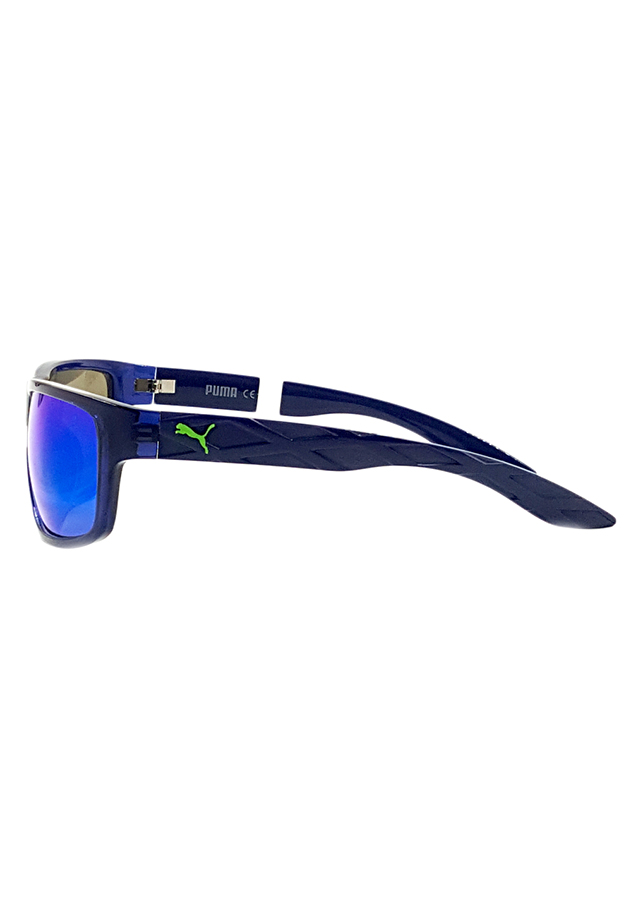Puma: (169, 415, 228, 459), (197, 376, 243, 403)
